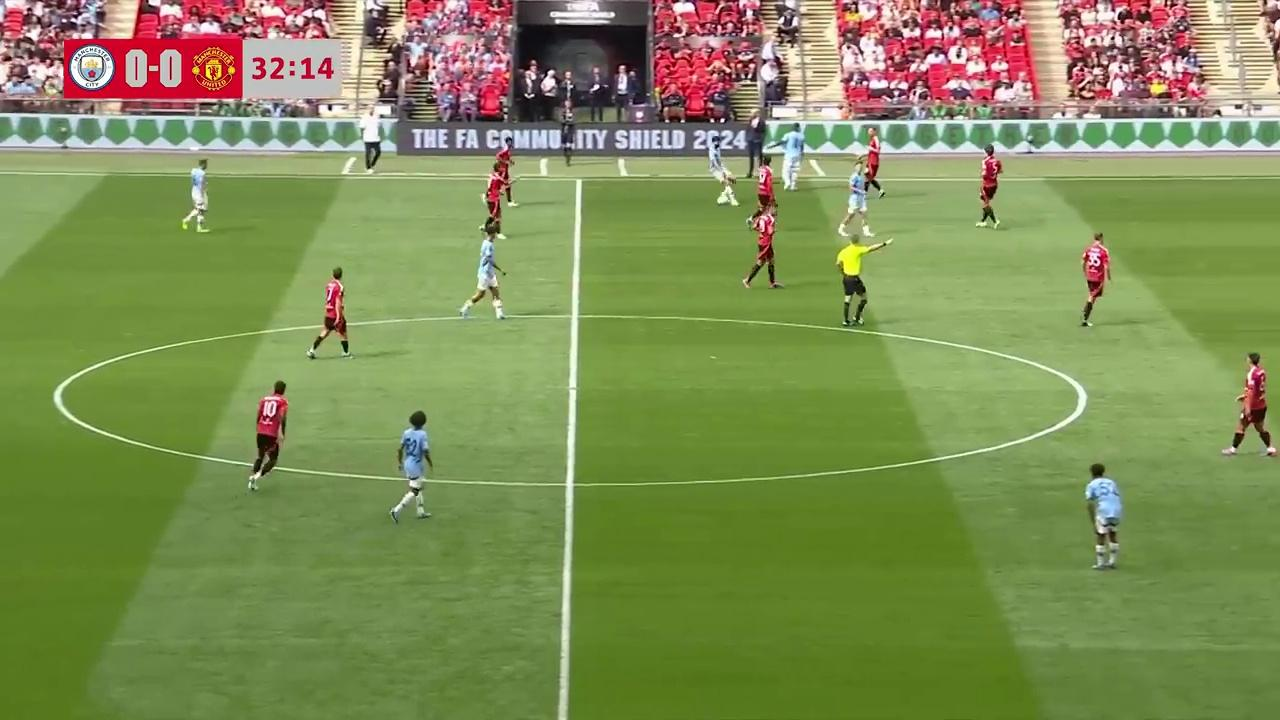player: (1221, 353, 1277, 459), (390, 409, 433, 524), (246, 380, 289, 492), (458, 229, 507, 321), (1084, 463, 1123, 572), (307, 267, 352, 360), (742, 201, 779, 289), (1079, 231, 1111, 328), (484, 157, 512, 236), (181, 159, 209, 232), (839, 166, 870, 231), (976, 149, 1001, 229), (709, 146, 737, 206), (482, 168, 506, 238), (493, 142, 515, 208), (754, 162, 779, 218), (862, 140, 885, 198)
referee: (835, 229, 868, 328)
